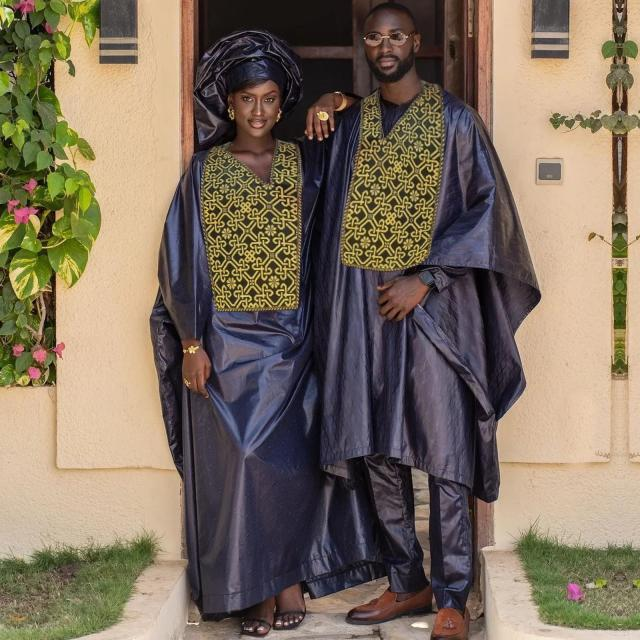sem_oculos: (218, 85, 290, 111), (351, 27, 430, 48)
